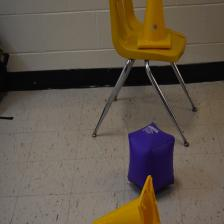cone: (92, 173, 160, 224), (137, 0, 172, 49)
cube: (128, 122, 176, 192)
